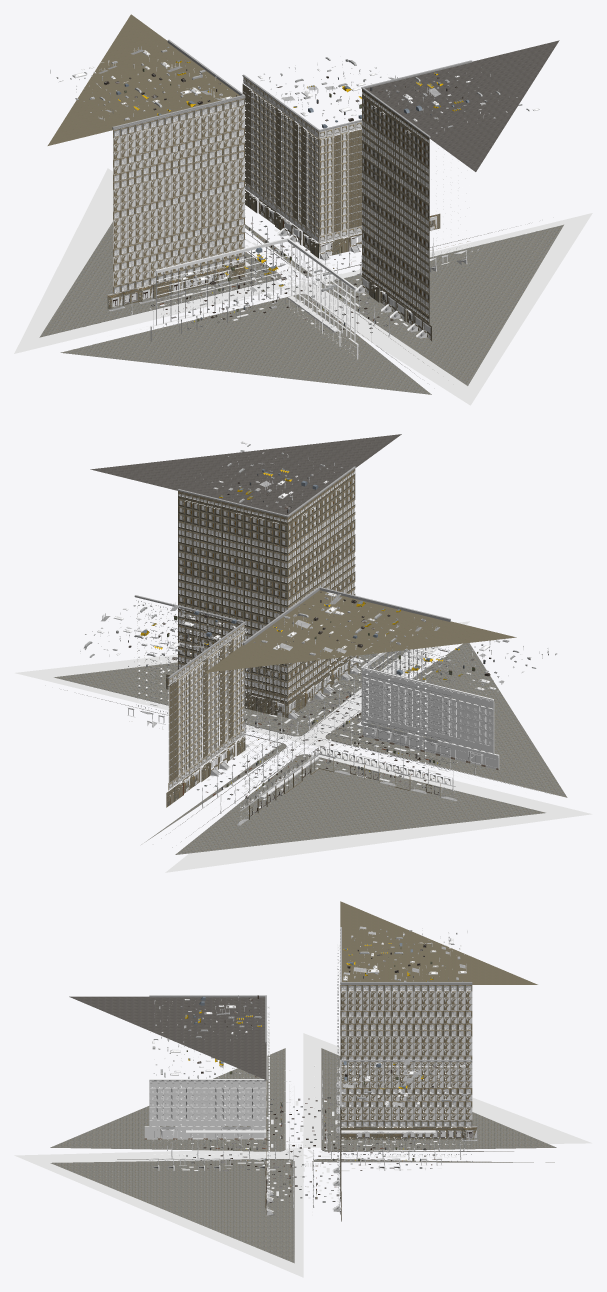
File: metro.glb
3 renders of one model, top to bottom at view 1: azimuth 30°, elevation 25°; view 2: azimuth 150°, elevation 25°; view 3: azimuth 270°, elevation 25°, orthographic. The views are drawn at different scales.
Visible parts, largest first — view 1: m_CityGenBrick Wall, m_CityGenside walks, m_CityGen_Interior_Room_Shader, m_CityGen_Streets, m_CityGenblack, m_CityGenroof.002, m_CityGenroof.003, m_CityGenGlass, m_CityGenconcrete, m_CityGenyellow stone, m_CityGentextured metal, m_CityGenbasic rough metal dark (+3 smaller); view 2: m_CityGenside walks, m_CityGenBrick Wall, m_CityGen_Streets, m_CityGenroof.002, m_CityGenroof.003, m_CityGenGlass, m_CityGenblack, m_CityGenconcrete, m_CityGen_Interior_Room_Shader, m_CityGenyellow stone, m_CityGenbasic rough metal dark, m_CityGenbasic metal (+3 smaller); view 3: m_CityGenside walks, m_CityGenBrick Wall, m_CityGen_Streets, m_CityGenroof.002, m_CityGen_Interior_Room_Shader, m_CityGenroof.003, m_CityGenblack, m_CityGenconcrete, m_CityGenyellow stone, m_CityGenGlass, m_CityGenbasic rough metal dark, m_CityGenbasic metal (+3 smaller).
Boxes of the visible parts, x1=… form: m_CityGenBrick Wall: x1=107, y1=77, x2=468, y2=340; m_CityGenside walks: x1=39, y1=222, x2=563, y2=394; m_CityGen_Interior_Room_Shader: x1=112, y1=77, x2=436, y2=333; m_CityGen_Streets: x1=14, y1=168, x2=592, y2=405; m_CityGenblack: x1=76, y1=65, x2=490, y2=348; m_CityGenroof.002: x1=365, y1=40, x2=559, y2=171; m_CityGenroof.003: x1=47, y1=14, x2=239, y2=145; m_CityGenGlass: x1=73, y1=51, x2=538, y2=338; m_CityGenconcrete: x1=98, y1=39, x2=485, y2=338; m_CityGenyellow stone: x1=111, y1=202, x2=467, y2=359; m_CityGentextured metal: x1=56, y1=47, x2=529, y2=319; m_CityGenbasic rough metal dark: x1=50, y1=46, x2=539, y2=336; m_CityGenside walks: x1=54, y1=643, x2=567, y2=854; m_CityGenBrick Wall: x1=137, y1=469, x2=444, y2=819; m_CityGen_Streets: x1=15, y1=621, x2=592, y2=872; m_CityGenroof.002: x1=90, y1=434, x2=401, y2=515; m_CityGenroof.003: x1=205, y1=590, x2=516, y2=672; m_CityGenGlass: x1=97, y1=441, x2=496, y2=796; m_CityGenblack: x1=101, y1=457, x2=548, y2=824; m_CityGenconcrete: x1=101, y1=463, x2=504, y2=825; m_CityGen_Interior_Room_Shader: x1=168, y1=475, x2=491, y2=792; m_CityGenyellow stone: x1=127, y1=648, x2=499, y2=821; m_CityGenbasic rough metal dark: x1=97, y1=441, x2=523, y2=813; m_CityGenbasic metal: x1=103, y1=456, x2=557, y2=821; m_CityGenside walks: x1=50, y1=1048, x2=556, y2=1263; m_CityGenBrick Wall: x1=265, y1=985, x2=477, y2=1221; m_CityGen_Streets: x1=14, y1=1033, x2=591, y2=1277; m_CityGenroof.002: x1=69, y1=996, x2=266, y2=1079; m_CityGen_Interior_Room_Shader: x1=151, y1=991, x2=476, y2=1137; m_CityGenroof.003: x1=340, y1=901, x2=537, y2=984; m_CityGenblack: x1=144, y1=933, x2=476, y2=1210; m_CityGenconcrete: x1=149, y1=926, x2=477, y2=1213; m_CityGenyellow stone: x1=144, y1=1024, x2=474, y2=1215; m_CityGenGlass: x1=147, y1=939, x2=472, y2=1211; m_CityGenbasic rough metal dark: x1=152, y1=927, x2=467, y2=1207; m_CityGenbasic metal: x1=153, y1=932, x2=469, y2=1166.
Size of what is drawn, in the model's own units: 244 by 84.69 by 244.
Materials: 54 (29 with a texture image).
